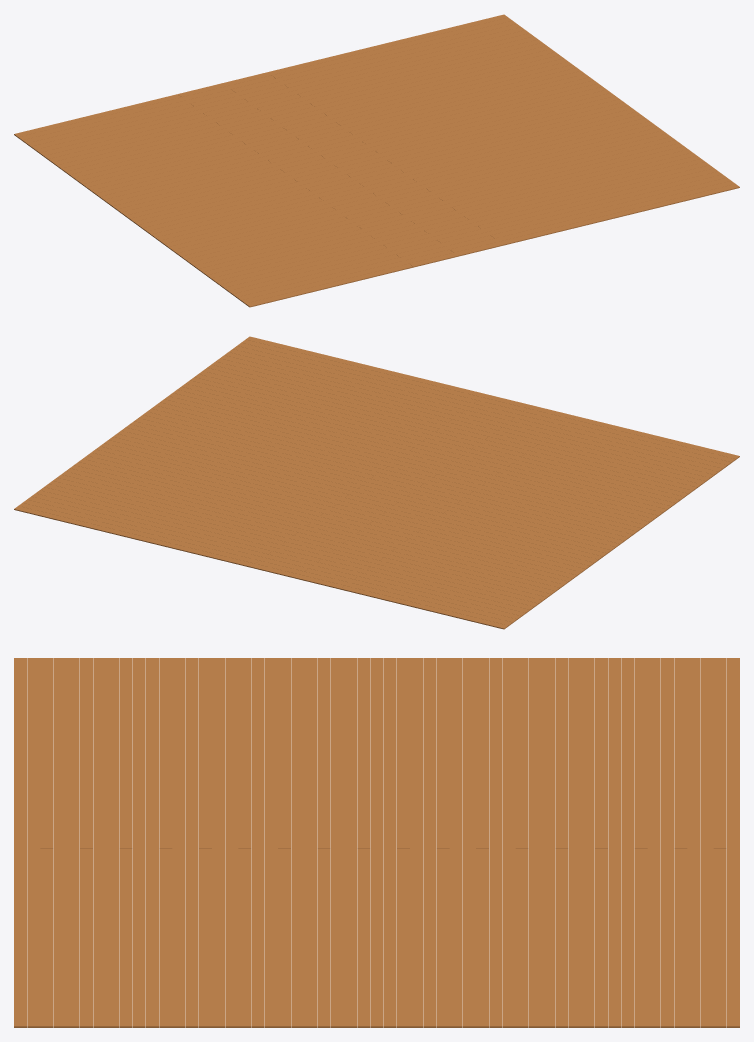
3 renders of one model, top to bottom at view 1: azimuth 30°, elevation 25°; view 2: azimuth 150°, elevation 25°; view 3: azimuth 270°, elevation 25°, orthographic. The views are drawn at different scales.
Parts seen in each view (by area): view 1: board_0_1, board_15_1, board_21_1, board_42_1, board_3_1, board_30_1, board_36_1, board_48_1, board_6_1, board_9_1, board_18_1, board_24_1 (+98 smaller); view 2: board_54_1, board_12_1, board_33_1, board_39_1, board_6_1, board_18_1, board_24_1, board_51_1, board_0_1, board_3_1, board_15_1, board_27_1 (+98 smaller); view 3: board_3_1, board_6_1, board_12_1, board_18_1, board_21_1, board_27_1, board_33_1, board_36_1, board_42_1, board_48_1, board_51_1, board_0_1 (+98 smaller).
Part boxes in pixels (x1,y1,x2,y2): board_0_1: [409, 184, 739, 267]; board_15_1: [345, 137, 675, 219]; board_21_1: [319, 118, 649, 200]; board_42_1: [229, 52, 559, 134]; board_3_1: [396, 174, 726, 257]; board_30_1: [280, 90, 610, 172]; board_36_1: [255, 71, 584, 153]; board_48_1: [203, 33, 533, 115]; board_6_1: [383, 165, 713, 247]; board_9_1: [371, 156, 700, 238]; board_18_1: [332, 127, 662, 210]; board_24_1: [306, 108, 636, 191]; board_54_1: [14, 506, 344, 589]; board_12_1: [194, 374, 524, 456]; board_33_1: [104, 440, 434, 522]; board_39_1: [78, 459, 408, 541]; board_6_1: [220, 355, 550, 437]; board_18_1: [169, 393, 498, 475]; board_24_1: [143, 412, 473, 494]; board_51_1: [27, 496, 357, 579]; board_0_1: [246, 336, 575, 418]; board_3_1: [233, 346, 563, 428]; board_15_1: [181, 383, 511, 466]; board_27_1: [130, 421, 459, 503]; board_3_1: [53, 781, 66, 1027]; board_6_1: [93, 781, 106, 1027]; board_12_1: [172, 781, 185, 1027]; board_18_1: [251, 781, 264, 1027]; board_21_1: [291, 781, 304, 1027]; board_27_1: [370, 781, 383, 1027]; board_33_1: [449, 781, 462, 1027]; board_36_1: [489, 781, 502, 1027]; board_42_1: [568, 781, 581, 1027]; board_48_1: [647, 781, 660, 1027]; board_51_1: [687, 781, 700, 1027]; board_0_1: [14, 781, 26, 1027].
Bounding box in the file's own units: 12 × 0.022 × 10.
